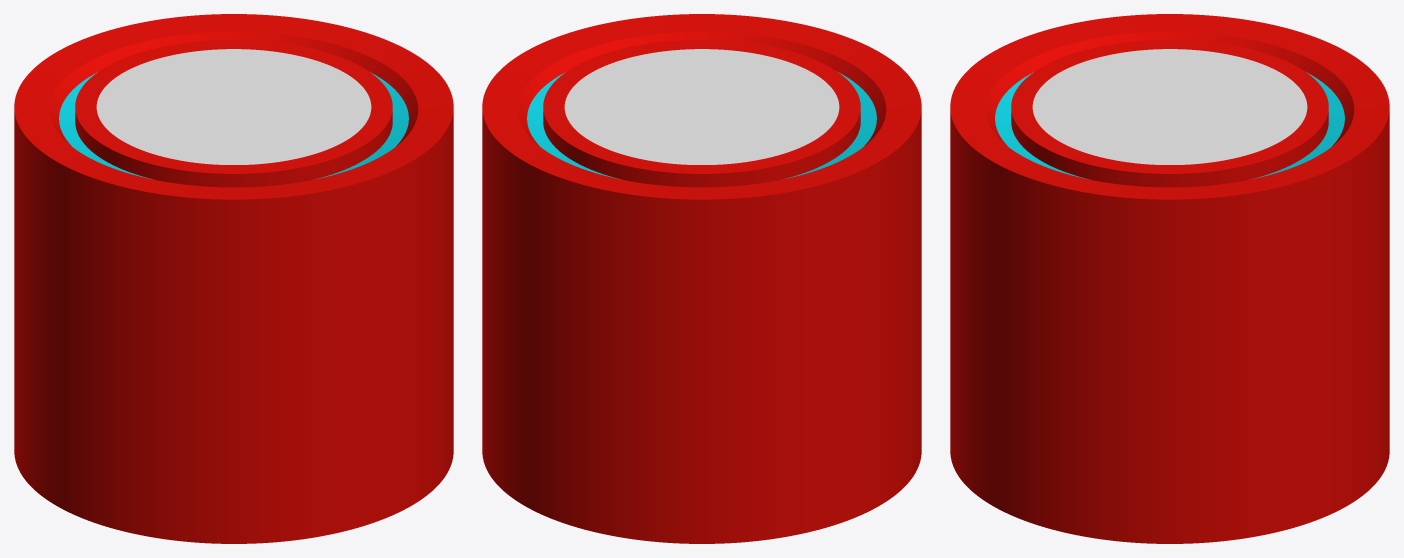
The model's file is pokerchips.fbx.
3 renders of one model, left to right at view 1: azimuth 30°, elevation 25°; view 2: azimuth 150°, elevation 25°; view 3: azimuth 270°, elevation 25°, orthographic.
Parts seen in each view (by area): view 1: Cylinder.001; view 2: Cylinder.001; view 3: Cylinder.001.
Boxes of the visible parts, x1=… form: Cylinder.001: x1=14, y1=14, x2=453, y2=543; Cylinder.001: x1=482, y1=14, x2=921, y2=543; Cylinder.001: x1=950, y1=14, x2=1389, y2=543.
Size of the model in its own units: 196 by 169 by 196.
